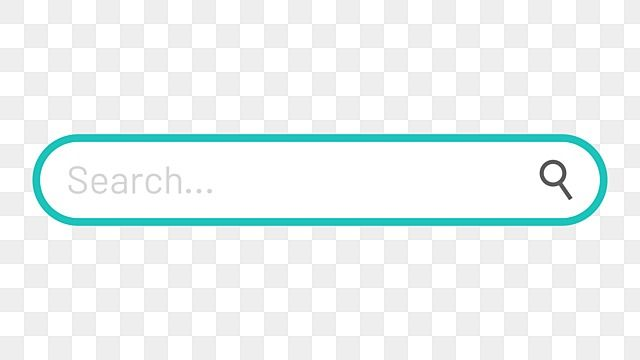search_box: (35, 133, 604, 225)
